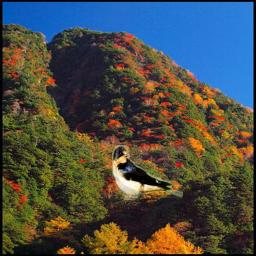Swallow: (112, 145, 183, 200)
